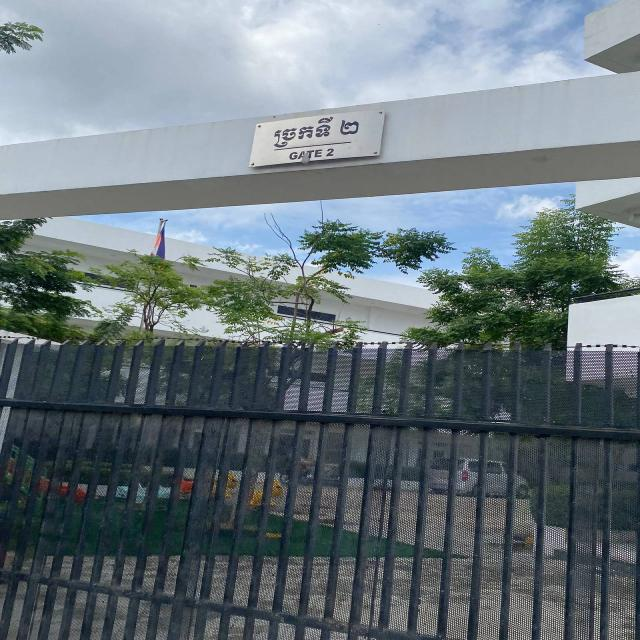Yolov11_80vkh: (265, 115, 366, 154)
